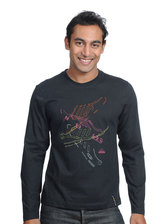clothoes: (20, 68, 149, 219)
